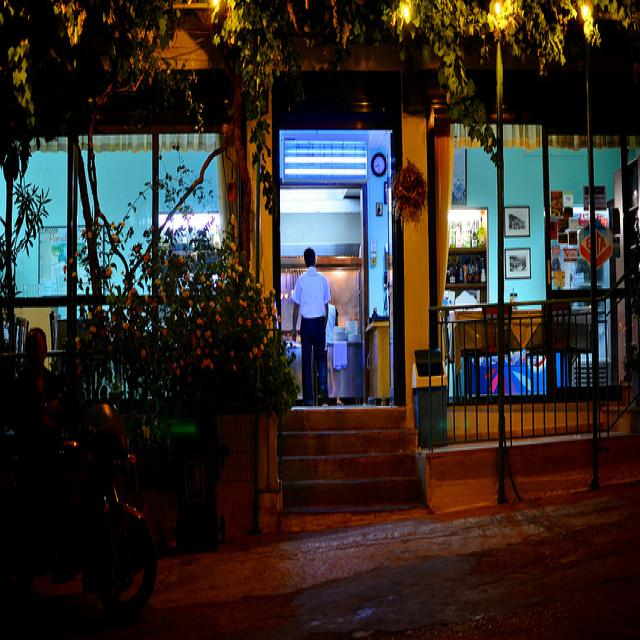Motorbike: (0, 332, 190, 610)
